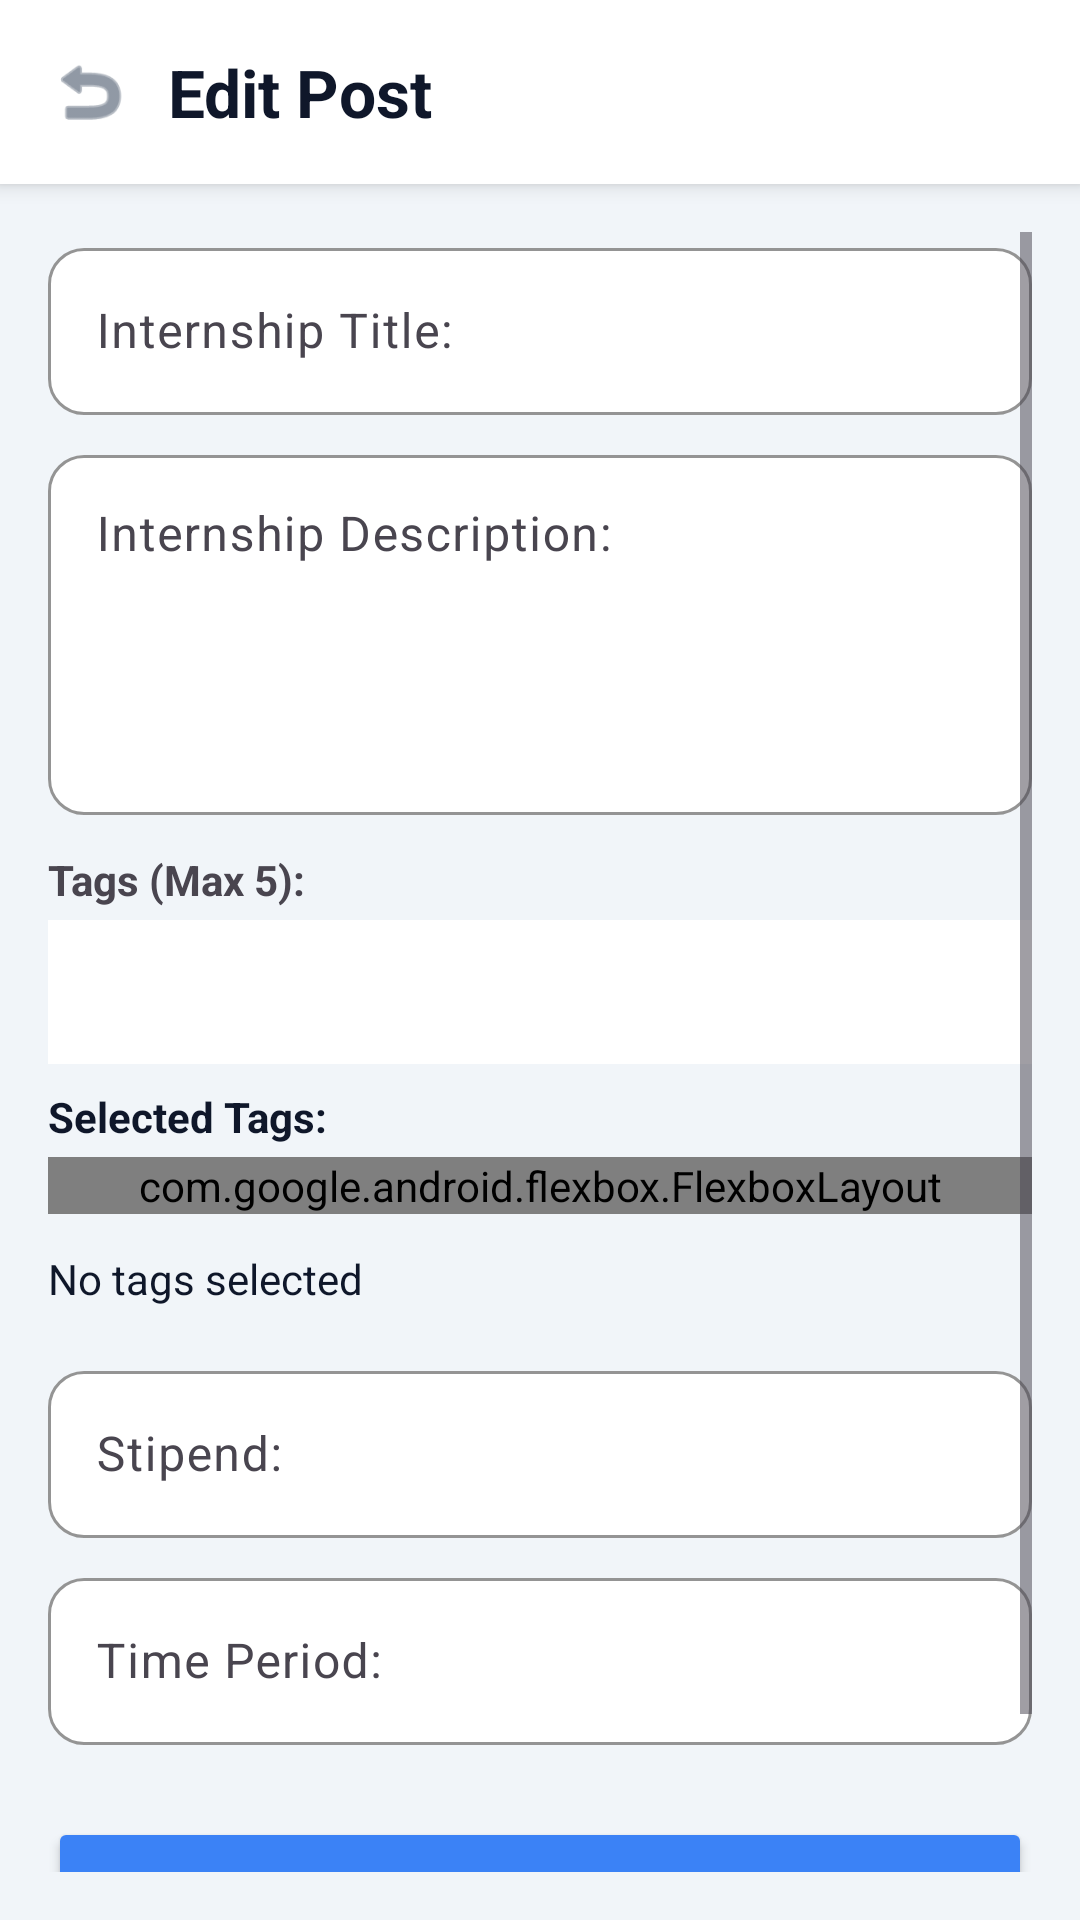

Where to tap for icons on this 1080px x 1920px app screen, as point (x, y):
revert: point (91, 92)
